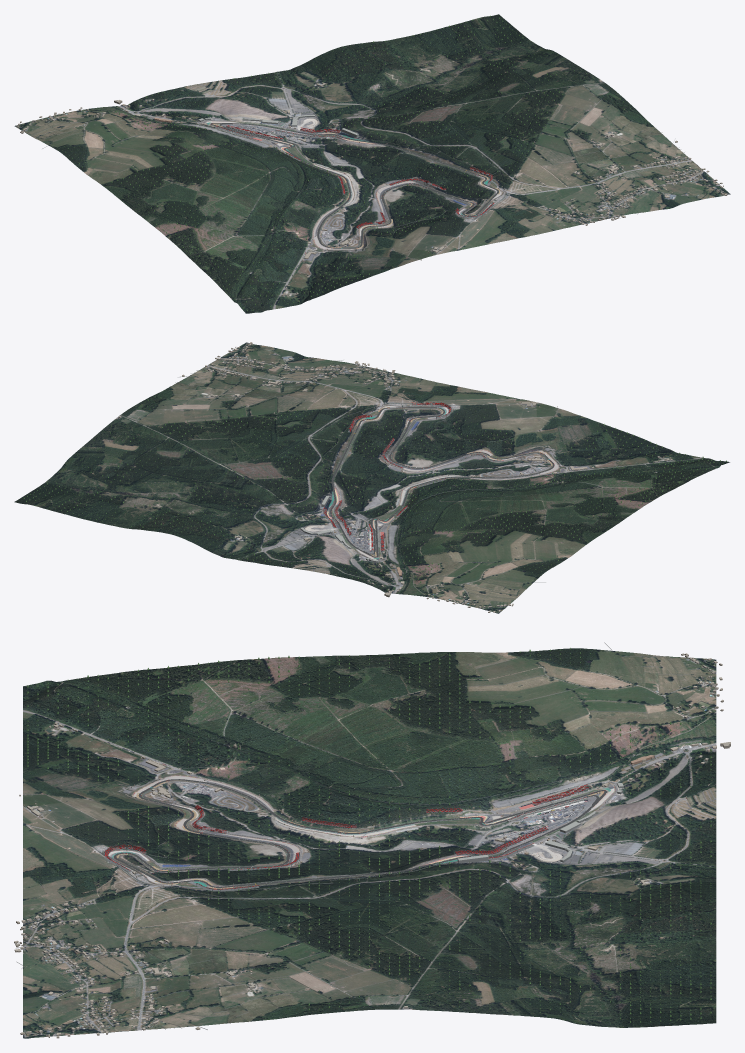
Rendered from spa.glb.
The picture shows the model from 3 angles, top to bottom: view 1: azimuth 30°, elevation 25°; view 2: azimuth 150°, elevation 25°; view 3: azimuth 270°, elevation 25°; orthographic projection. The views are drawn at different scales.
Visible parts, largest first — view 1: SPW_DTM_Terrain_RealScale, Spa_SPW_DSM_Tree_Groups, Spa_OSM_Safety_Fences_And_Walls, Spa_Current_OSM_DSM_Buildings, FIA_Spa_Centreline_12m, SpaGP_2026_Grandstands; view 2: SPW_DTM_Terrain_RealScale, Spa_SPW_DSM_Tree_Groups, Spa_OSM_Safety_Fences_And_Walls, Spa_Current_OSM_DSM_Buildings, FIA_Spa_Centreline_12m, SpaGP_2026_Grandstands; view 3: SPW_DTM_Terrain_RealScale, Spa_SPW_DSM_Tree_Groups, Spa_OSM_Safety_Fences_And_Walls, Spa_Current_OSM_DSM_Buildings, FIA_Spa_Centreline_12m, SpaGP_2026_Grandstands, Spa_Mapped_Roofed_Structures.
Boxes of the visible parts, bbox=[...] form: SPW_DTM_Terrain_RealScale: bbox=[14, 14, 730, 313]; Spa_SPW_DSM_Tree_Groups: bbox=[30, 15, 672, 311]; Spa_OSM_Safety_Fences_And_Walls: bbox=[31, 85, 684, 260]; Spa_Current_OSM_DSM_Buildings: bbox=[16, 80, 727, 297]; FIA_Spa_Centreline_12m: bbox=[210, 123, 498, 248]; SpaGP_2026_Grandstands: bbox=[215, 125, 494, 228]; SPW_DTM_Terrain_RealScale: bbox=[14, 342, 729, 613]; Spa_SPW_DSM_Tree_Groups: bbox=[23, 353, 726, 609]; Spa_OSM_Safety_Fences_And_Walls: bbox=[170, 360, 590, 601]; Spa_Current_OSM_DSM_Buildings: bbox=[118, 342, 672, 612]; FIA_Spa_Centreline_12m: bbox=[330, 407, 554, 557]; SpaGP_2026_Grandstands: bbox=[323, 402, 503, 552]; SPW_DTM_Terrain_RealScale: bbox=[23, 648, 716, 1038]; Spa_SPW_DSM_Tree_Groups: bbox=[27, 648, 711, 1030]; Spa_OSM_Safety_Fences_And_Walls: bbox=[16, 642, 713, 1029]; Spa_Current_OSM_DSM_Buildings: bbox=[14, 653, 730, 1038]; FIA_Spa_Centreline_12m: bbox=[113, 779, 607, 887]; SpaGP_2026_Grandstands: bbox=[104, 784, 589, 891]; Spa_Mapped_Roofed_Structures: bbox=[457, 783, 623, 862].
Bounding box in the file's own units: 3621 × 217 × 2998.
Materials: 23 (1 with a texture image).
